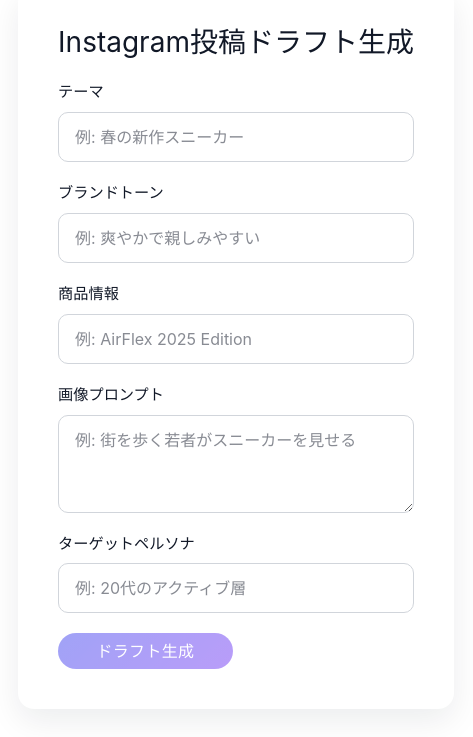
Test case: App › submits post generation request with form values
This screenshot has width=473, height=737.
In the field labelled "テーマ": (236, 137) 58,112 -> 414,162, type "春の新作スニーカー"
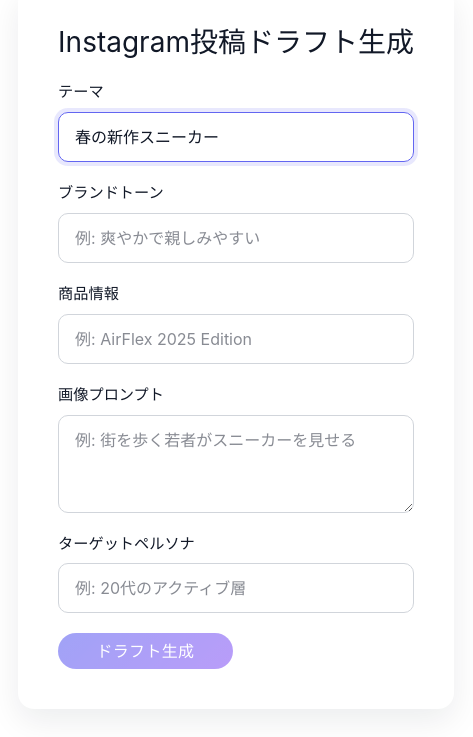
In the field labelled "ブランドトーン": (236, 238) 58,213 -> 414,263, type "爽やかで親しみやすい"
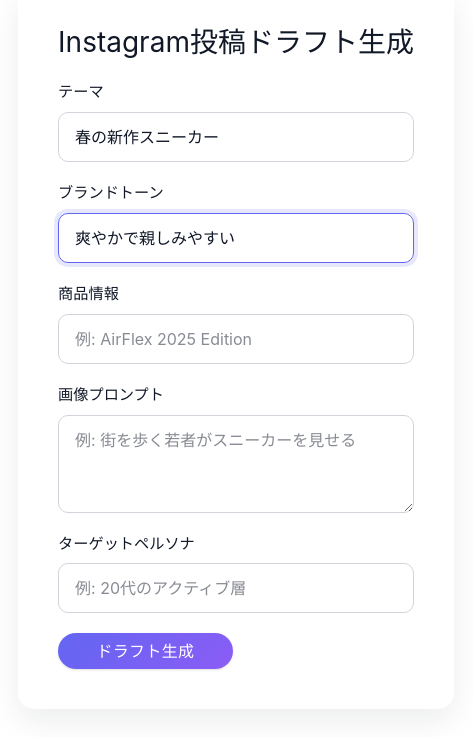
In the field labelled "商品情報": (236, 339) 58,314 -> 414,364, type "AirFlex 2025 Edition"
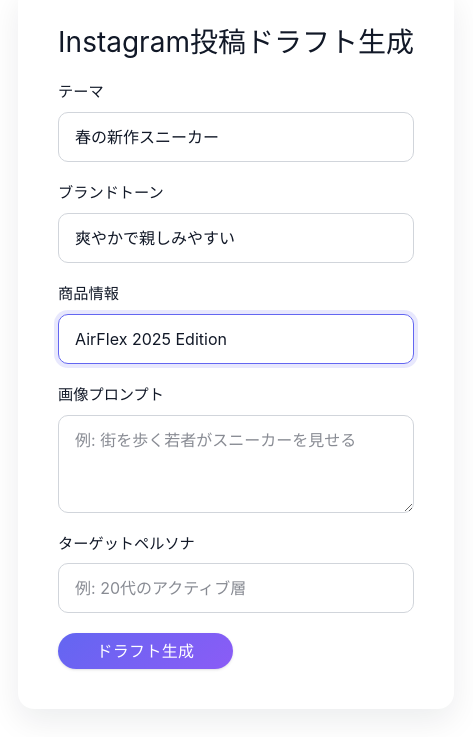
In the text box labelled "画像プロンプト": (236, 464) 58,415 -> 414,513, type "街を歩く若者がスニーカーを見せる"
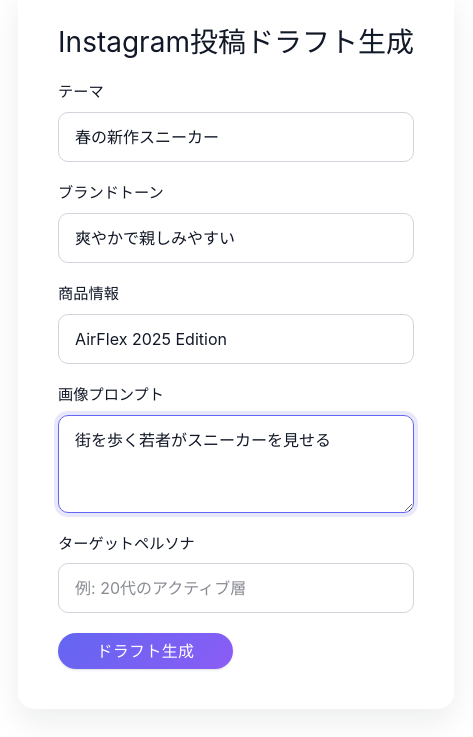
In the field labelled "ターゲットペルソナ": (236, 588) 58,563 -> 414,613, type "20代のアクティブ層"
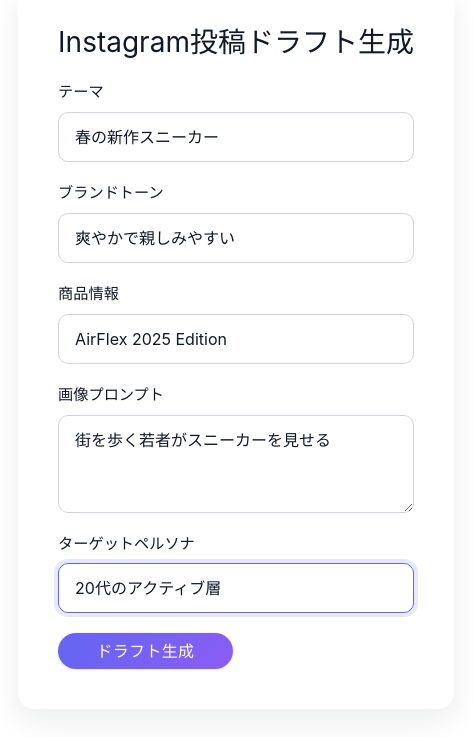
Click the button "ドラフト生成": click(145, 651) 58,633 -> 233,669
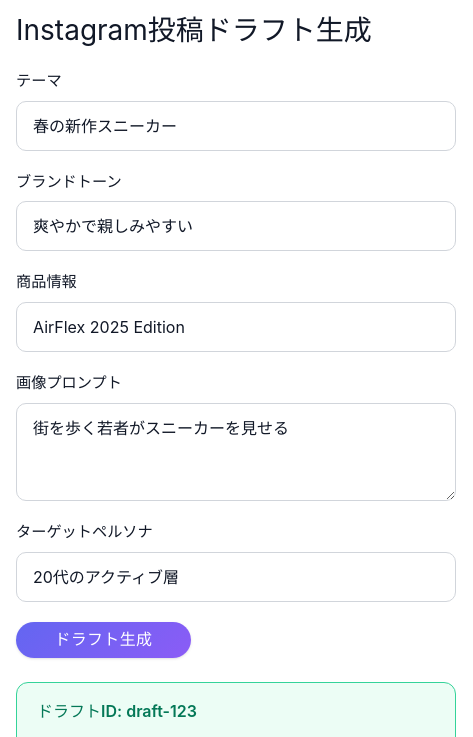
Expected: the text "ドラフトID: draft-123" is shown, 37,701 -> 197,721
